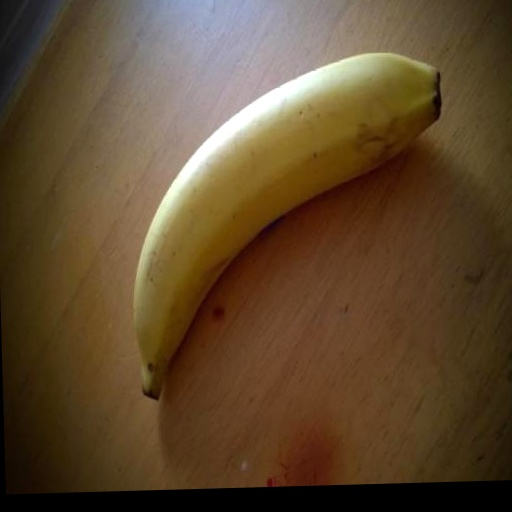fruit: (133, 54, 440, 398)
